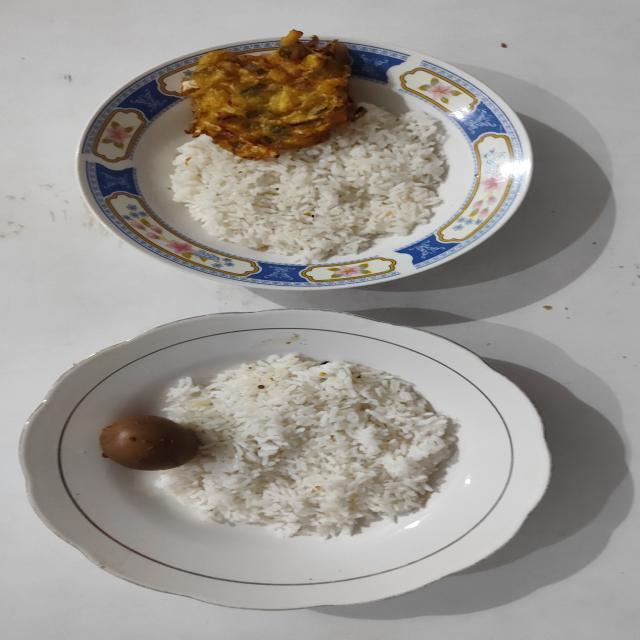nasi_putih: (162, 353, 458, 539), (170, 104, 448, 264)
